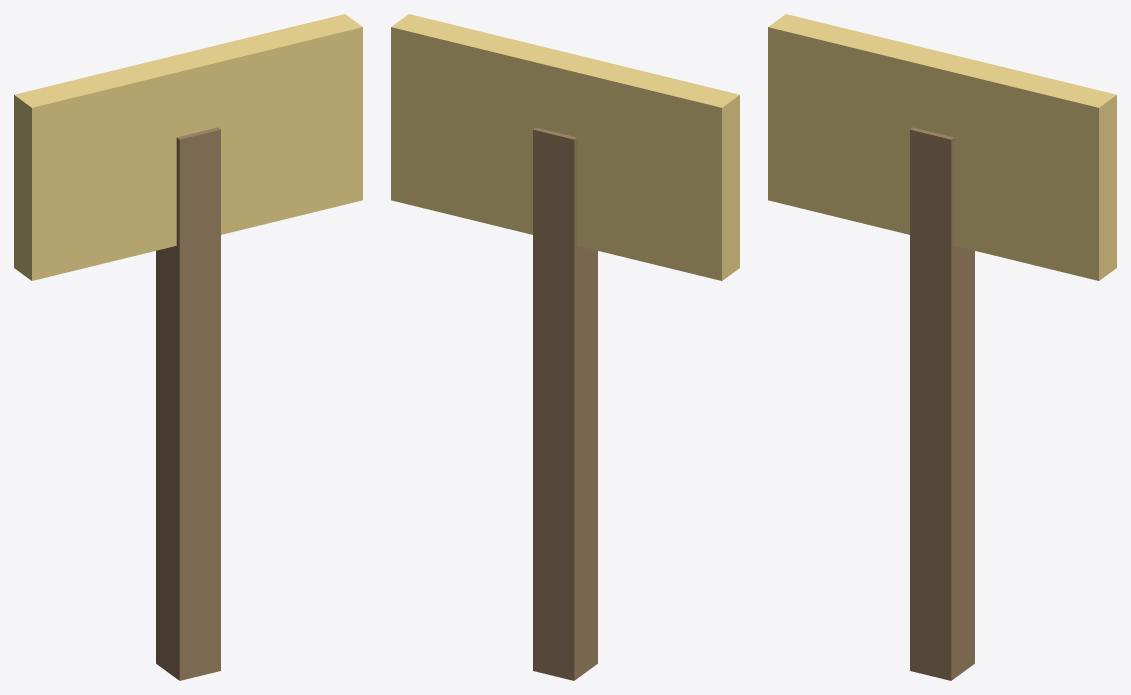
The picture shows the model from 3 angles, left to right: view 1: azimuth 30°, elevation 25°; view 2: azimuth 150°, elevation 25°; view 3: azimuth 330°, elevation 25°; orthographic projection.
Size of the model in its own units: 1.6 by 2.8 by 0.2.
